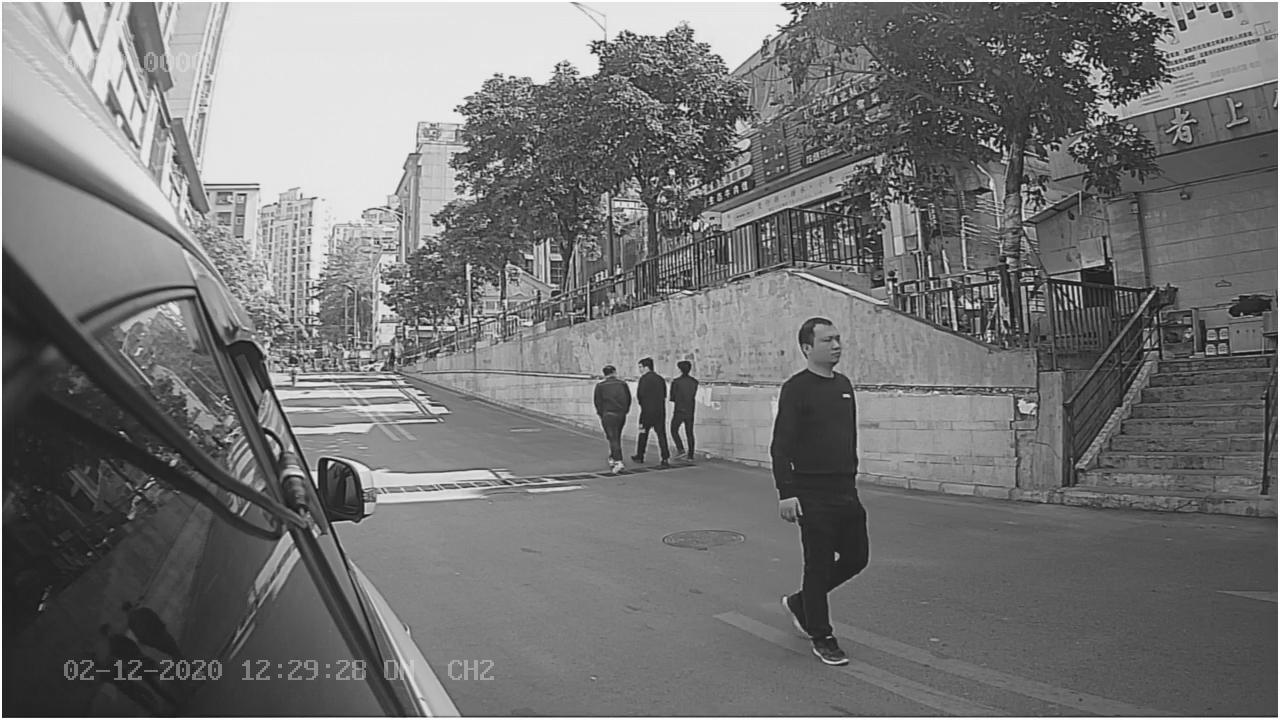person: (765, 310, 873, 665)
